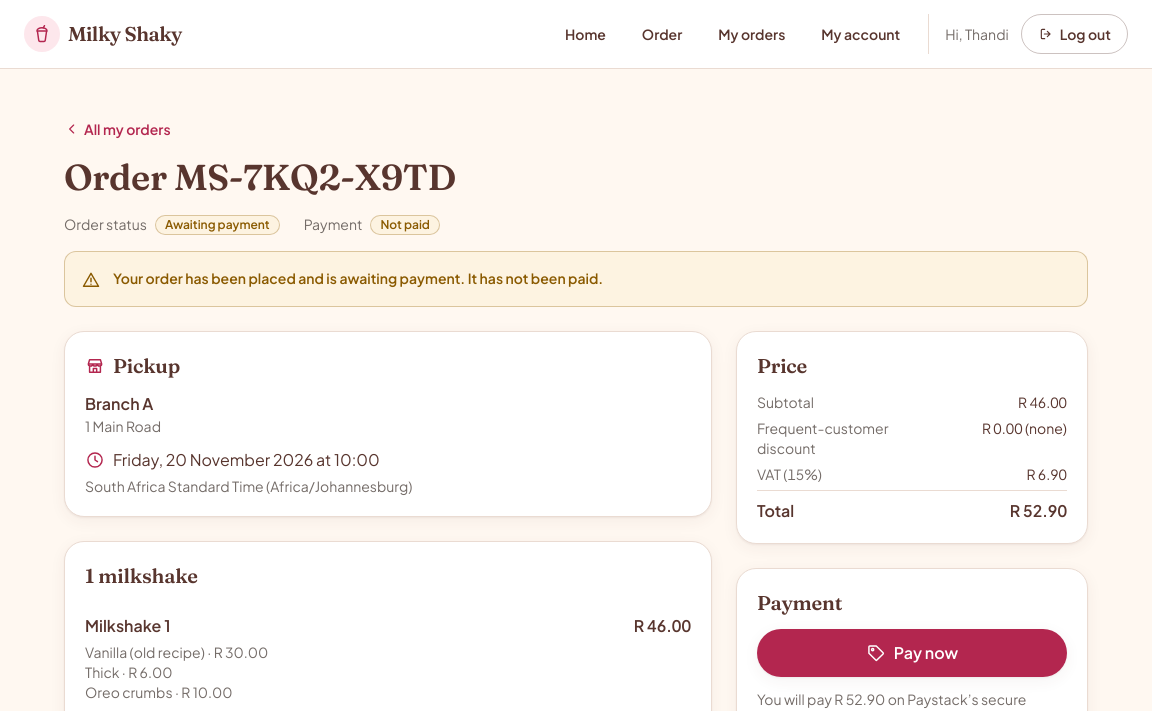
Test: paying for an order › asks the server for a checkout with a fresh key and no amount, then goes only to Paystack
The image size is (1152, 711).
Step 1. Click the button "Pay now" → click(912, 653), box [757, 629, 1067, 677]
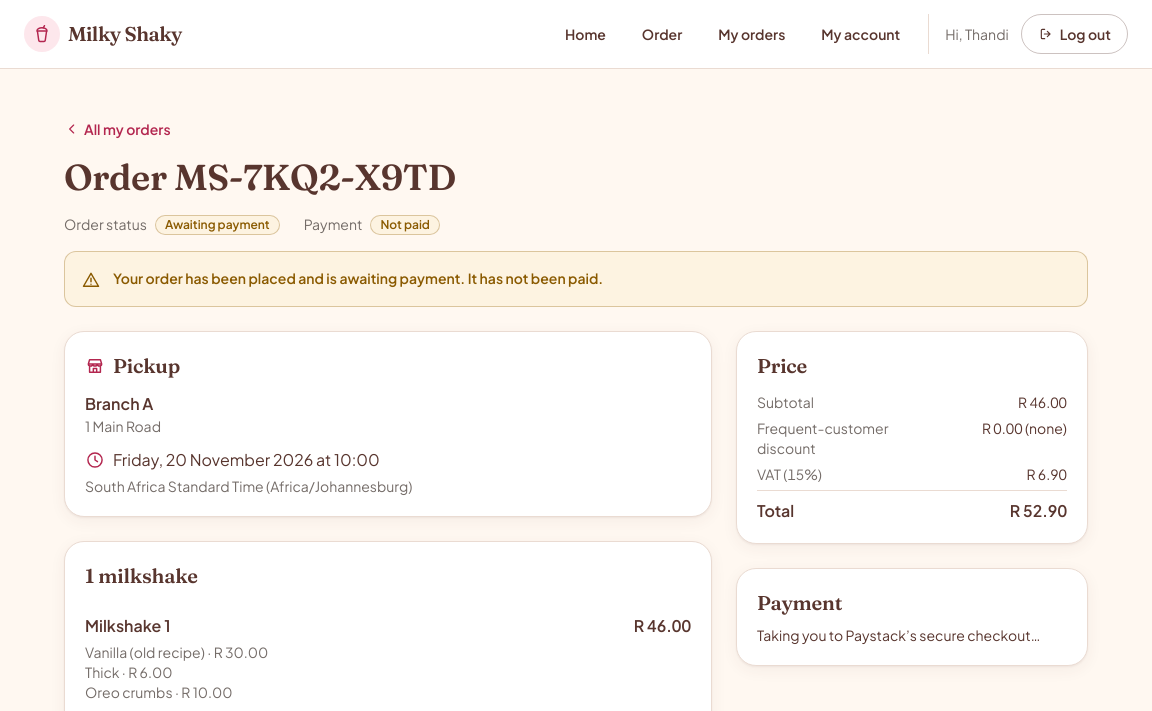
Expected: the text "Not paid" is shown, [370, 215, 440, 235]
Expected: the message shows "Taking you to Paystack", [757, 626, 1040, 644]
Expected: the button "Pay now" is gone
